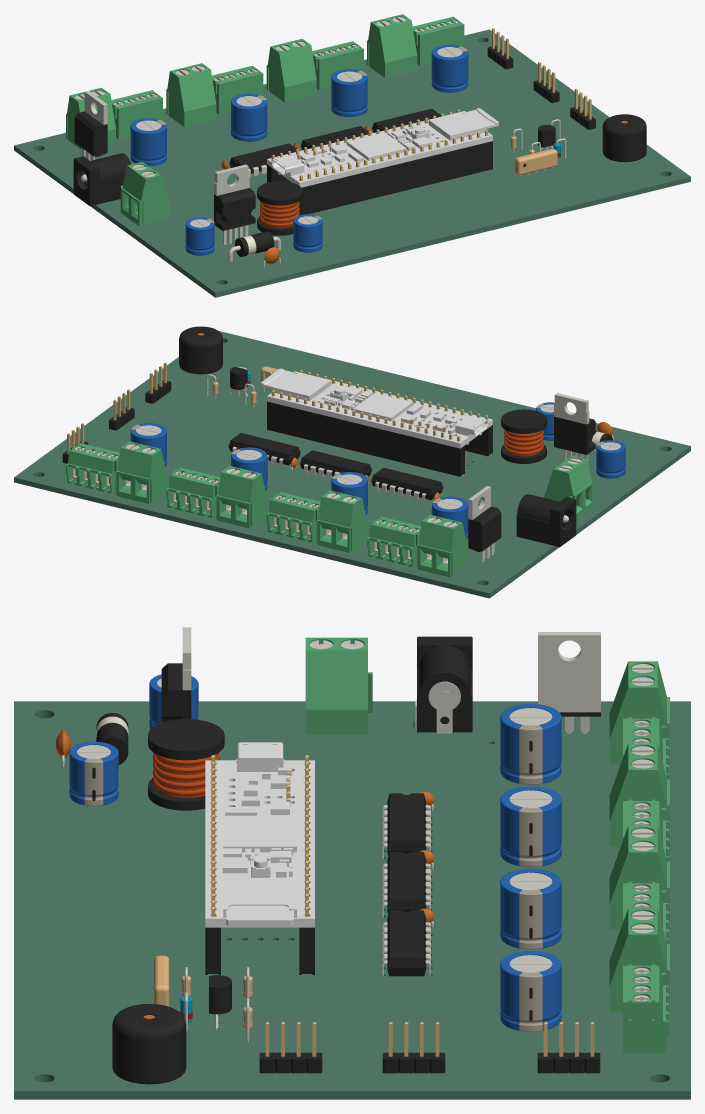
Rendered from monture_ext.glb.
3 renders of one model, top to bottom at view 1: azimuth 30°, elevation 25°; view 2: azimuth 150°, elevation 25°; view 3: azimuth 270°, elevation 25°, orthographic. The views are drawn at different scales.
Parts seen in each view (by area): view 1: =>[0:1:1:48], =>[0:1:1:17] (×5), =>[0:1:1:41], =>[0:1:1:23] (×4), =>[0:1:1:19] (×4), =>[0:1:1:33], =>[0:1:1:5], =>[0:1:1:7], =>[0:1:1:25] (×3), =>[0:1:1:43] (×2), =>[0:1:1:29], =>[0:1:1:3] (+5 smaller); view 2: =>[0:1:1:48], =>[0:1:1:17] (×5), =>[0:1:1:19] (×4), =>[0:1:1:41], =>[0:1:1:33] (×2), =>[0:1:1:25] (×3), =>[0:1:1:23] (×4), =>[0:1:1:7], =>[0:1:1:29], =>[0:1:1:35] (×2), =>[0:1:1:5], =>[0:1:1:3] (+3 smaller); view 3: =>[0:1:1:48], =>[0:1:1:17] (×5), =>[0:1:1:23] (×4), =>[0:1:1:41], =>[0:1:1:25] (×3), =>[0:1:1:19] (×4), =>[0:1:1:15] (×3), =>[0:1:1:29], =>[0:1:1:7], =>[0:1:1:3], =>[0:1:1:21], =>[0:1:1:43] (×2) (+6 smaller).
Boxes of the visible parts, x1,y1,x2,y2 form: =>[0:1:1:48]: [14, 29, 690, 297]; =>[0:1:1:17] (×5): [66, 14, 417, 226]; =>[0:1:1:41]: [267, 108, 498, 187]; =>[0:1:1:23] (×4): [130, 44, 468, 166]; =>[0:1:1:19] (×4): [111, 16, 464, 139]; =>[0:1:1:33]: [299, 141, 492, 215]; =>[0:1:1:5]: [214, 164, 255, 244]; =>[0:1:1:7]: [73, 153, 131, 206]; =>[0:1:1:25] (×3): [229, 108, 440, 176]; =>[0:1:1:43] (×2): [185, 214, 322, 255]; =>[0:1:1:29]: [257, 181, 302, 235]; =>[0:1:1:3]: [602, 114, 646, 162]; =>[0:1:1:48]: [14, 331, 690, 598]; =>[0:1:1:17] (×5): [115, 441, 593, 577]; =>[0:1:1:19] (×4): [66, 443, 420, 566]; =>[0:1:1:41]: [261, 368, 492, 448]; =>[0:1:1:33] (×2): [267, 401, 492, 476]; =>[0:1:1:25] (×3): [228, 433, 443, 502]; =>[0:1:1:23] (×4): [130, 423, 468, 539]; =>[0:1:1:7]: [516, 494, 576, 547]; =>[0:1:1:29]: [501, 409, 546, 463]; =>[0:1:1:35] (×2): [269, 370, 492, 465]; =>[0:1:1:5]: [554, 393, 595, 463]; =>[0:1:1:3]: [179, 326, 222, 374]; =>[0:1:1:48]: [14, 701, 690, 1099]; =>[0:1:1:17] (×5): [305, 637, 669, 1011]; =>[0:1:1:23] (×4): [500, 704, 561, 1031]; =>[0:1:1:41]: [205, 742, 314, 927]; =>[0:1:1:25] (×3): [382, 793, 430, 976]; =>[0:1:1:19] (×4): [623, 717, 669, 1053]; =>[0:1:1:15] (×3): [259, 1022, 600, 1073]; =>[0:1:1:29]: [148, 719, 224, 810]; =>[0:1:1:7]: [415, 636, 472, 733]; =>[0:1:1:3]: [112, 1004, 186, 1084]; =>[0:1:1:21]: [538, 632, 600, 733]; =>[0:1:1:43] (×2): [69, 674, 198, 806].
Bounding box in the file's own units: 0.1518 × 0.0306 × 0.11.
